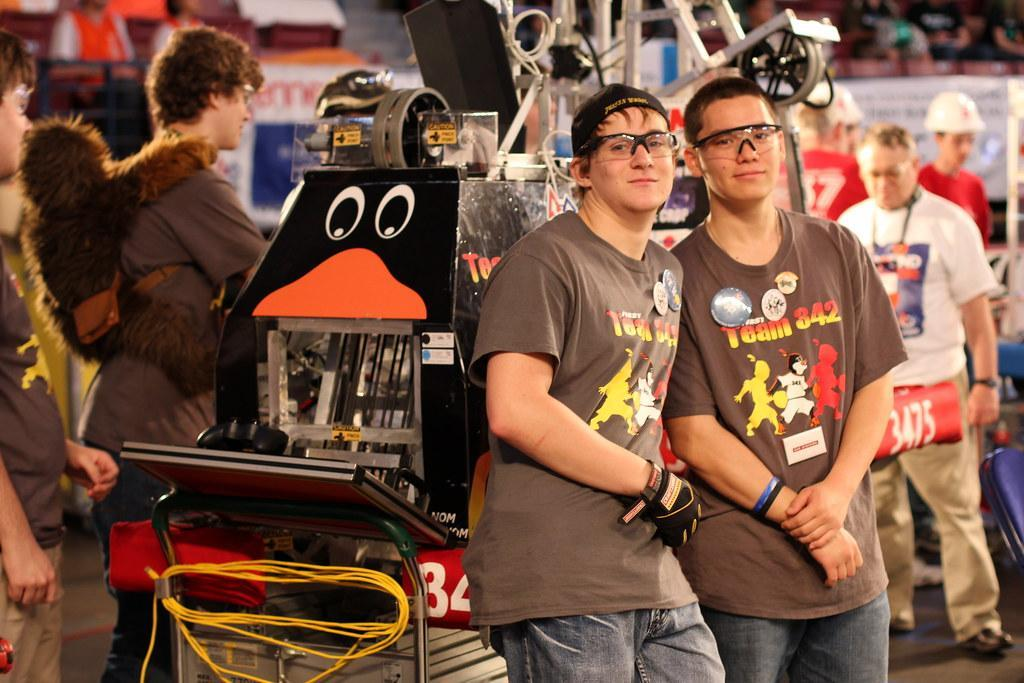robot: (100, 0, 593, 639), (502, 0, 976, 489)
